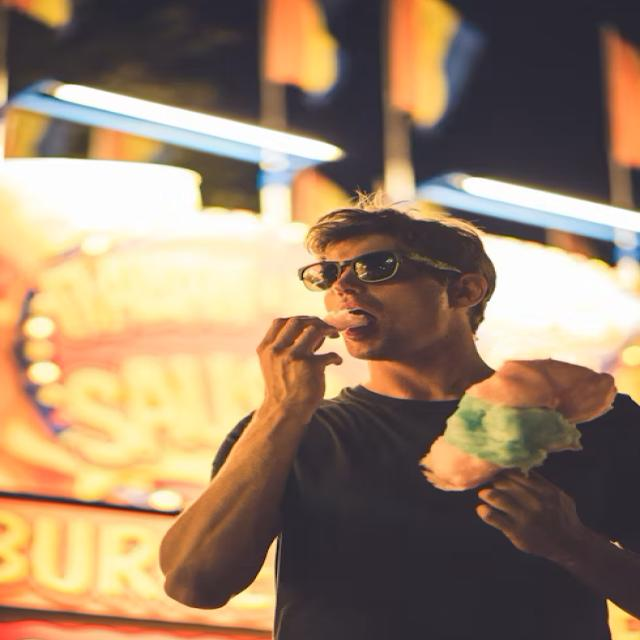Edited images: (116, 188, 640, 640)
